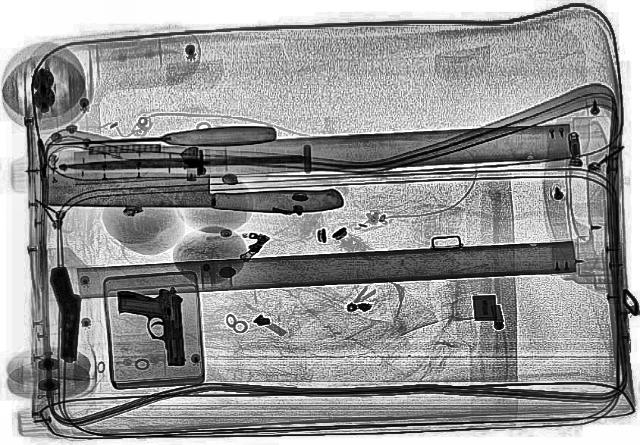Gun: (116, 286, 186, 368), (46, 265, 85, 361)
Knife: (39, 170, 343, 214), (48, 122, 276, 156), (61, 153, 301, 171)
